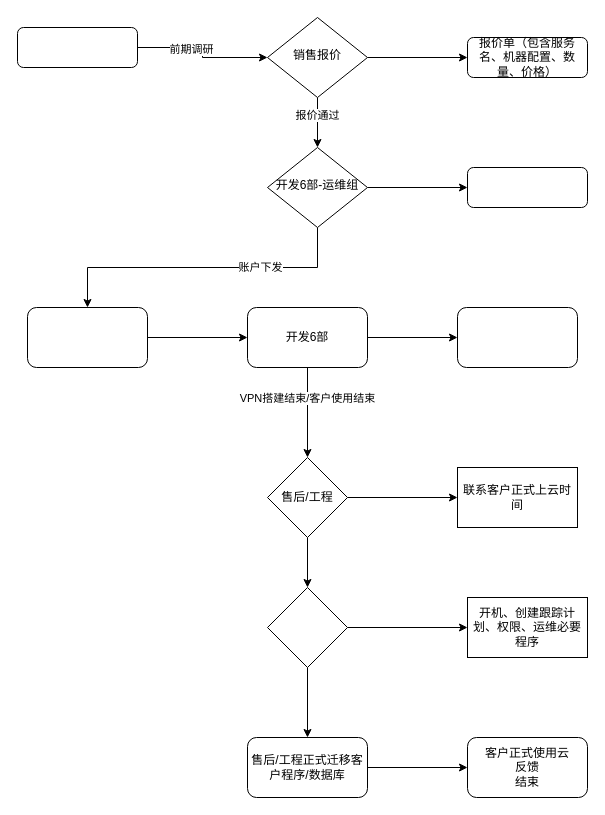
The diagram is 605 pixels wide and 815 high, and some of its shapes have lost their labels. Here are the shapes that lost their labels. From the top down, the box of each, then its label:
(16, 26, 138, 68): 客户上云流程图
(466, 166, 588, 208): 商讨AWS开账户 资料、及挂载账户至西联
(26, 306, 148, 368): 销售
(456, 306, 578, 368): 创建VPN/及客户试用
(266, 586, 348, 668): 开发6部-正式开机时间
